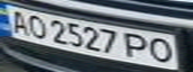2: (45, 17, 69, 46), (81, 24, 103, 53)
5: (63, 20, 84, 50)
7: (100, 26, 124, 56)
A: (3, 7, 33, 35)
O: (145, 35, 181, 64), (21, 12, 48, 39)
P: (121, 30, 154, 61)
